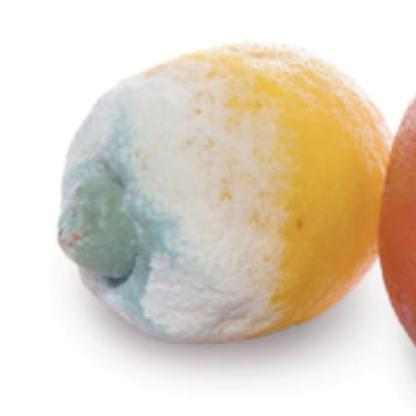rotten: (58, 43, 386, 348)
